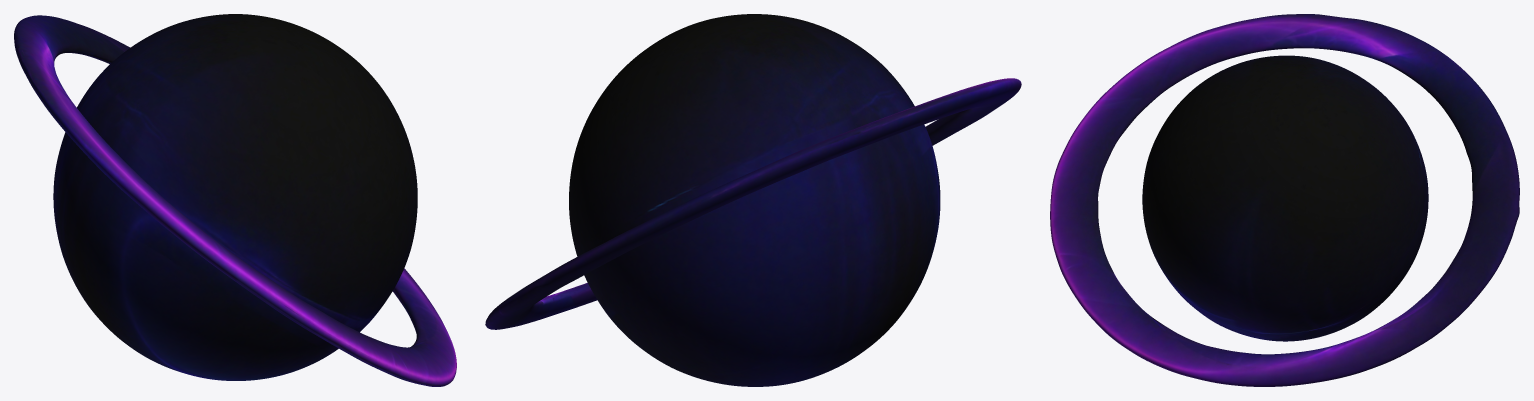
Rendered from Orbis_v2.glb.
3 views of the same model, side by side, from view 1: azimuth 30°, elevation 25°; view 2: azimuth 150°, elevation 25°; view 3: azimuth 270°, elevation 25° (orthographic). The views are drawn at different scales.
Parts seen in each view (by area): view 1: Mesh_0.001; view 2: Mesh_0.001; view 3: Mesh_0.001.
Boxes of the visible parts, left/top/right/bottom form: Mesh_0.001: left=14, top=14, right=456, bottom=386; Mesh_0.001: left=485, top=14, right=1021, bottom=386; Mesh_0.001: left=1050, top=14, right=1519, bottom=386.
Size of the model in its own units: 10.34 by 8.52 by 14.02.
Materials: 1 (1 with a texture image).
